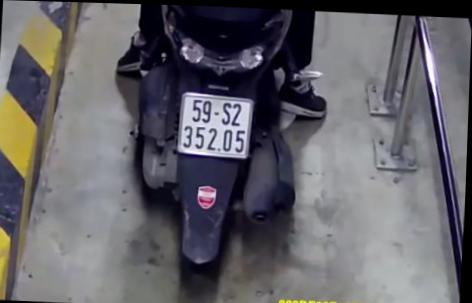LP: (177, 89, 255, 158)
